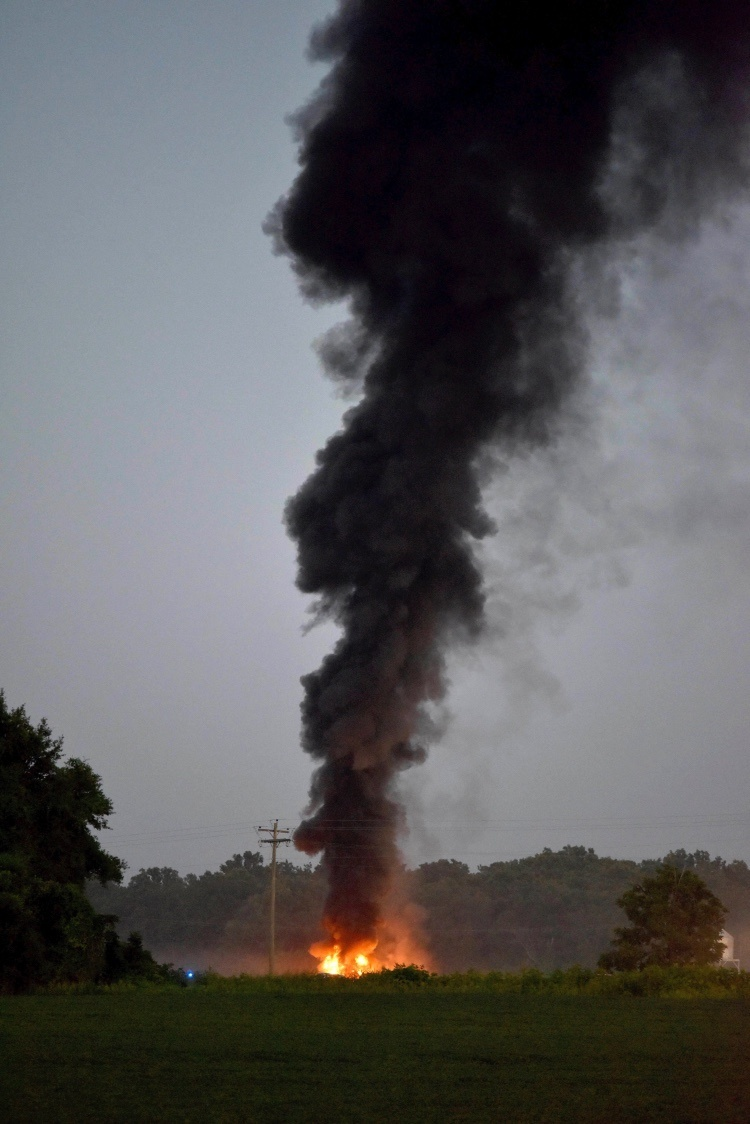fire: (309, 934, 393, 980)
